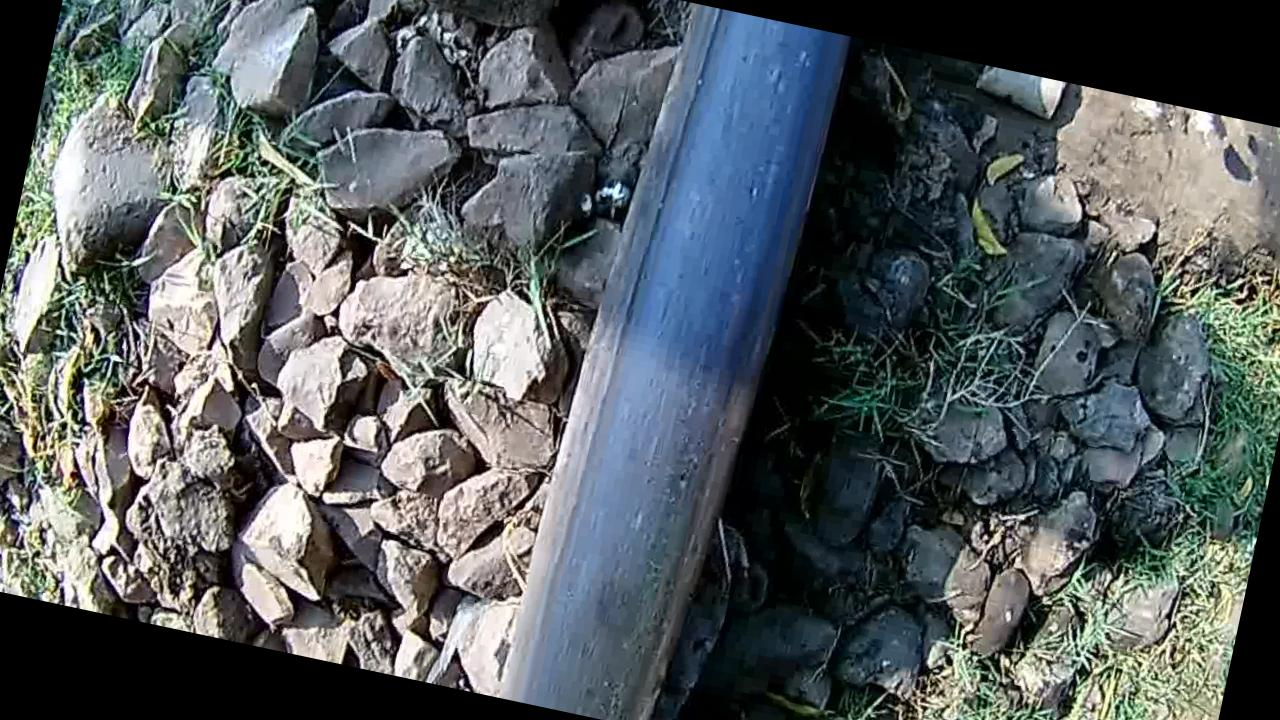bolt_missing: (519, 452, 707, 720)
